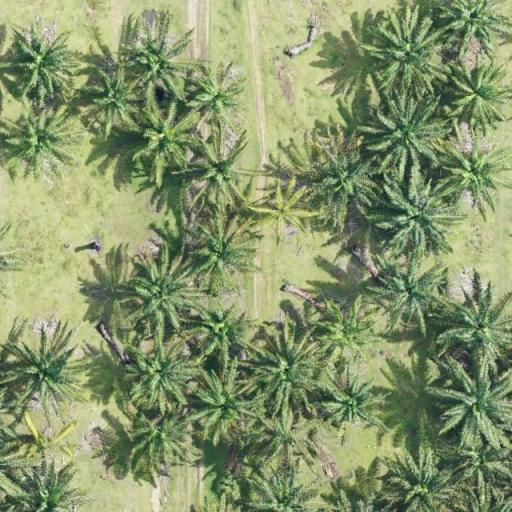Ganoderma: (327, 312, 369, 352), (264, 190, 304, 230), (26, 422, 66, 460)
